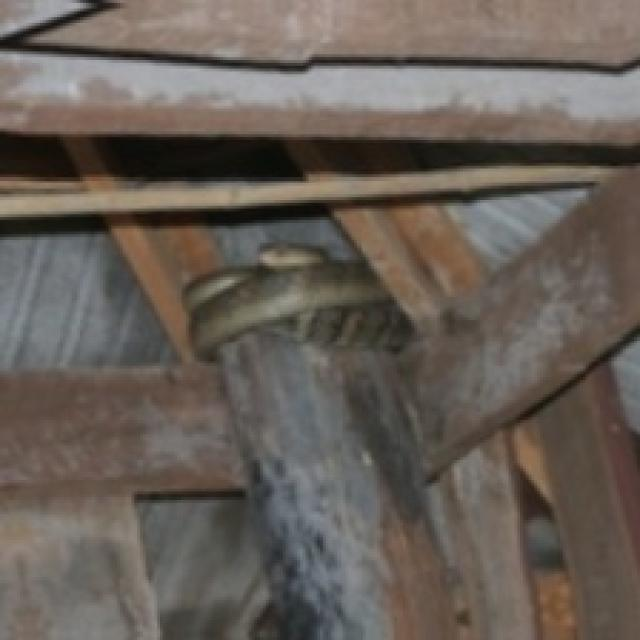king cobra: (220, 171, 637, 637), (534, 383, 637, 637)
